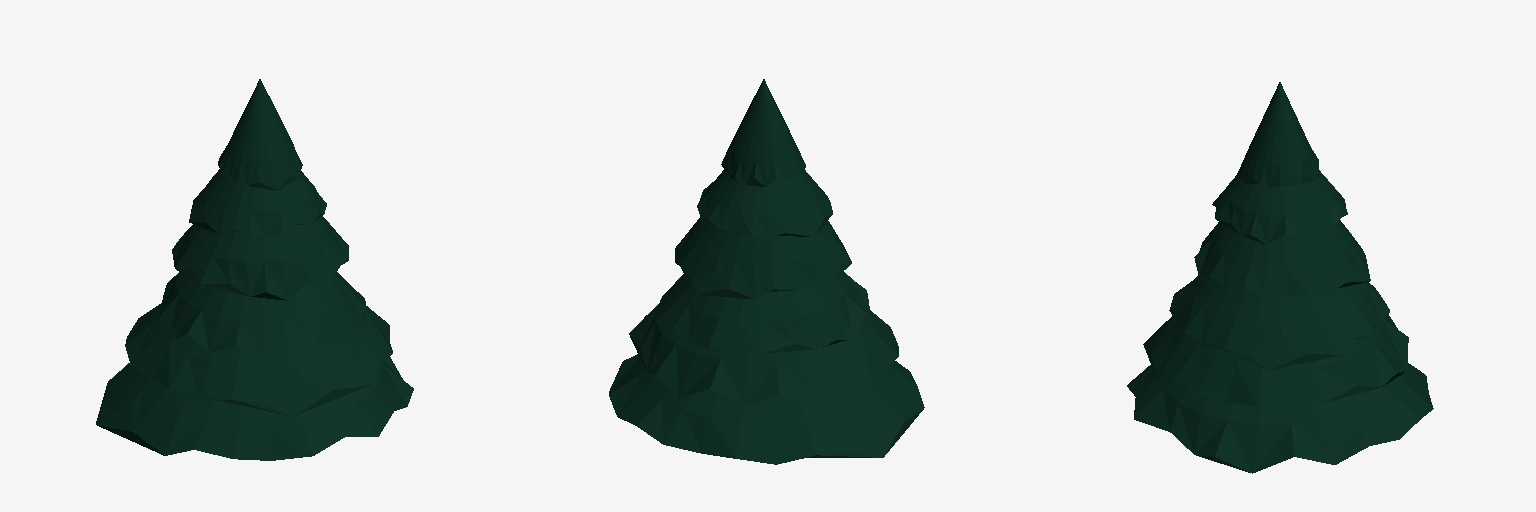
The model's file is ChristmasTree.obj.
3 views of the same model, side by side, from view 1: azimuth 30°, elevation 25°; view 2: azimuth 150°, elevation 25°; view 3: azimuth 270°, elevation 25° (orthographic).
Parts seen in each view (by area): view 1: Object.5, Object.4, Object.3, Object.2, Object.6, Object.1; view 2: Object.5, Object.4, Object.3, Object.2, Object.6, Object.1; view 3: Object.5, Object.3, Object.4, Object.2, Object.6, Object.1.
Part boxes in pixels (left/top/right/bottom): Object.5: left=96, top=356, right=413, bottom=460; Object.4: left=125, top=303, right=392, bottom=416; Object.3: left=158, top=272, right=365, bottom=353; Object.2: left=172, top=216, right=348, bottom=300; Object.6: left=189, top=169, right=326, bottom=235; Object.1: left=218, top=79, right=302, bottom=190; Object.5: left=609, top=354, right=924, bottom=464; Object.4: left=629, top=304, right=898, bottom=405; Object.3: left=653, top=271, right=869, bottom=353; Object.2: left=675, top=217, right=851, bottom=299; Object.6: left=697, top=169, right=832, bottom=238; Object.1: left=721, top=79, right=805, bottom=186; Object.5: left=1127, top=363, right=1433, bottom=473; Object.3: left=1169, top=276, right=1389, bottom=370; Object.4: left=1143, top=314, right=1408, bottom=405; Object.2: left=1194, top=220, right=1370, bottom=296; Object.6: left=1212, top=170, right=1347, bottom=244; Object.1: left=1237, top=82, right=1319, bottom=187.
Size of the model in its own units: 24.04 by 29.46 by 23.19.